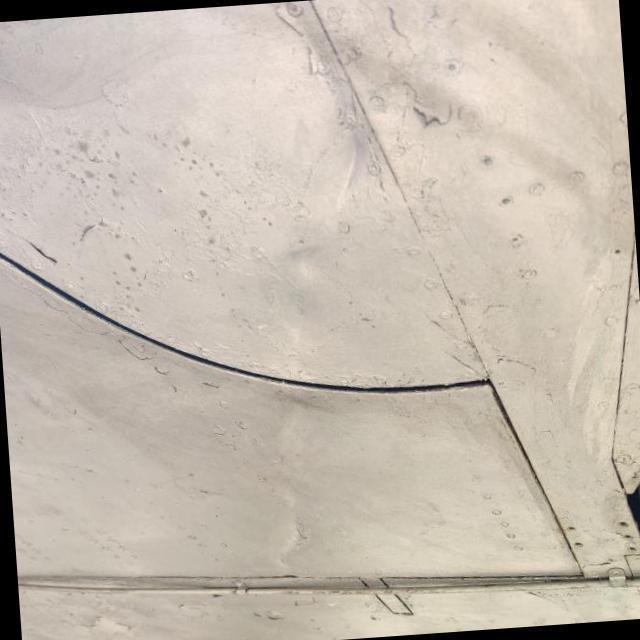Dent: (247, 471, 340, 575)
